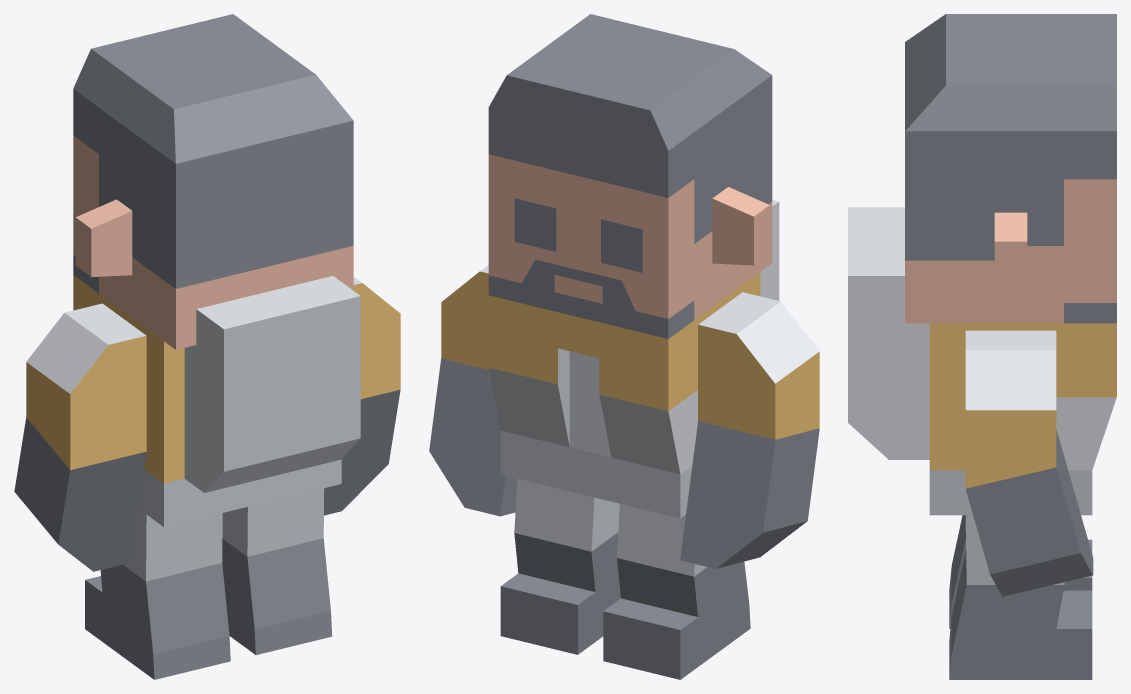
The model's file is astronautB.glb.
The picture shows the model from 3 angles, left to right: view 1: azimuth 30°, elevation 25°; view 2: azimuth 150°, elevation 25°; view 3: azimuth 270°, elevation 25°; orthographic projection. The views are drawn at different scales.
Parts seen in each view (by area): view 1: armLeft; view 2: armLeft; view 3: armLeft.
Part boxes in pixels (bbox=[...]): armLeft: bbox=[14, 14, 400, 679]; armLeft: bbox=[429, 14, 819, 679]; armLeft: bbox=[848, 14, 1116, 679].
Bounding box in the file's own units: 0.4832 × 0.7932 × 0.33.
Materials: 1 (1 with a texture image).
